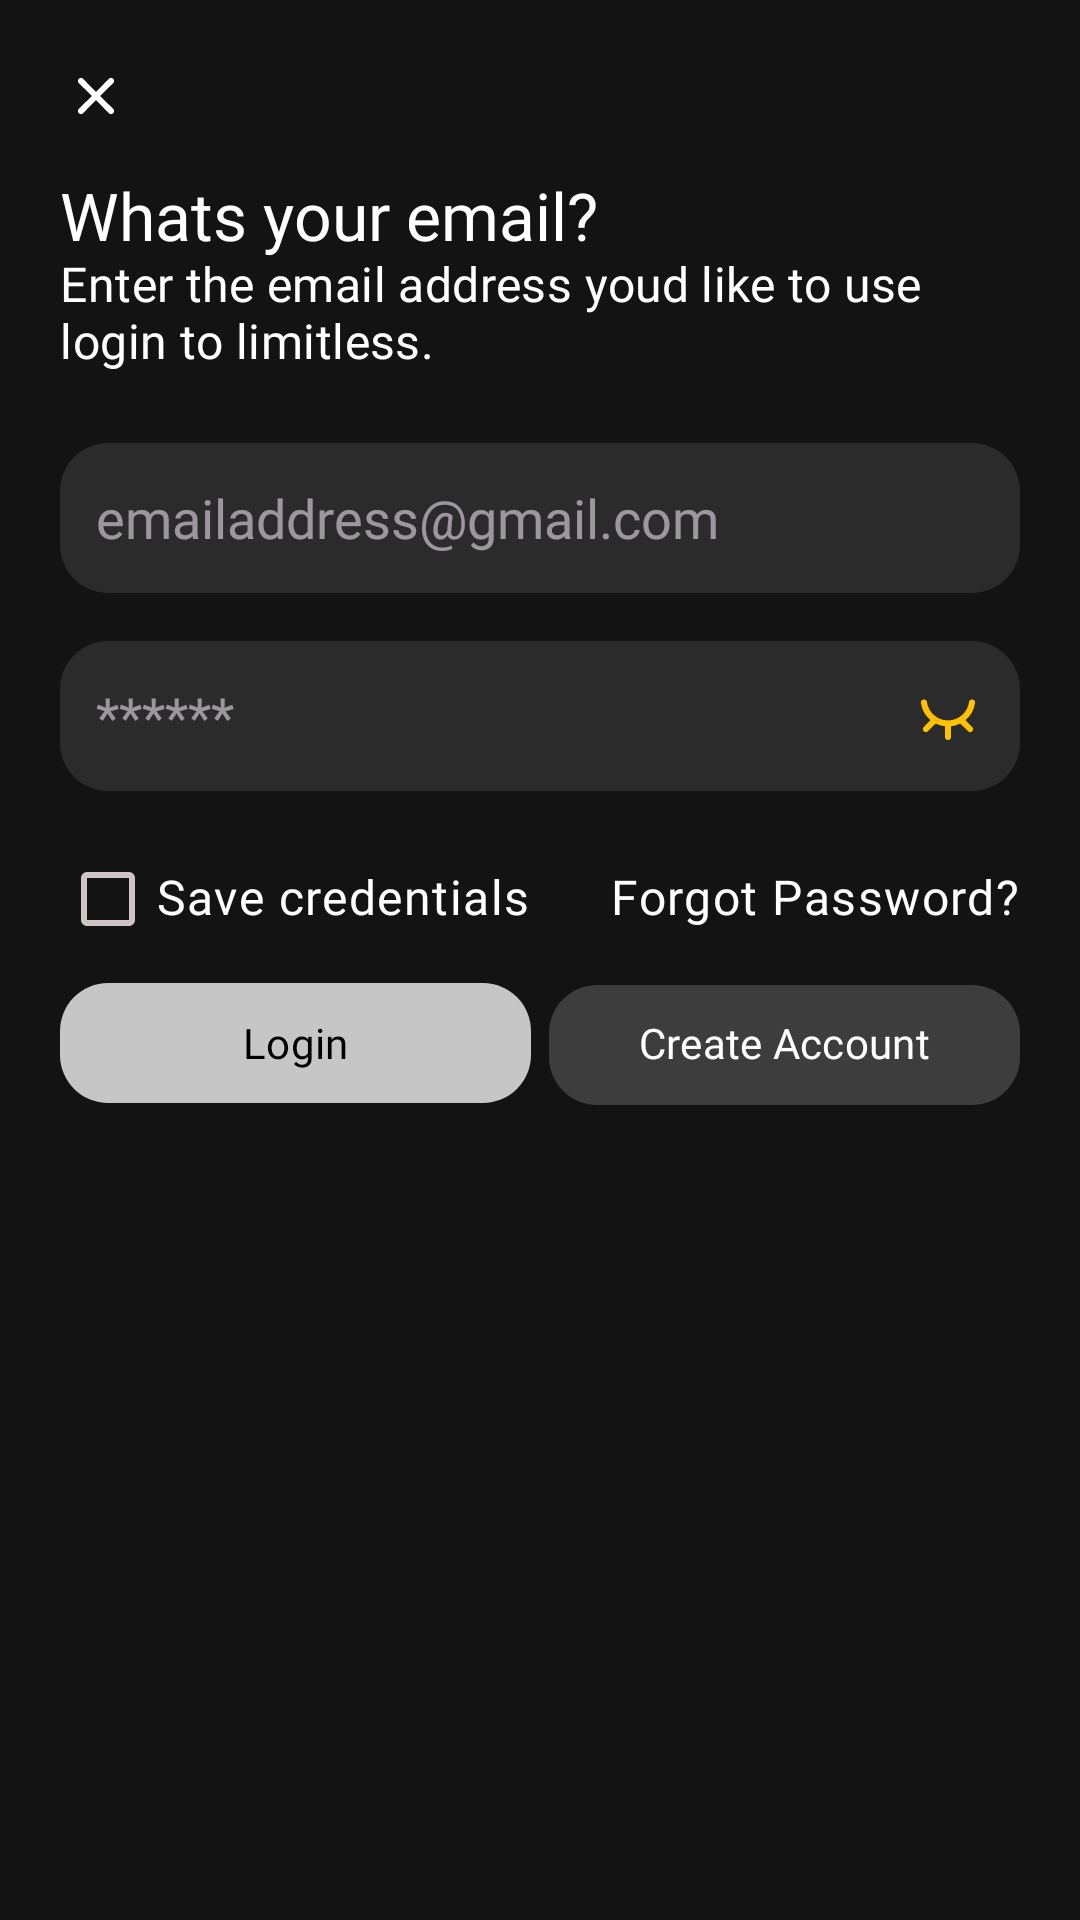

Locate icon controls on the screen. Image size 1080 × 1920, boxes as [x1=x1, y1=y1, x2=x2, y2=y2].
close: [x1=78, y1=78, x2=114, y2=114]
